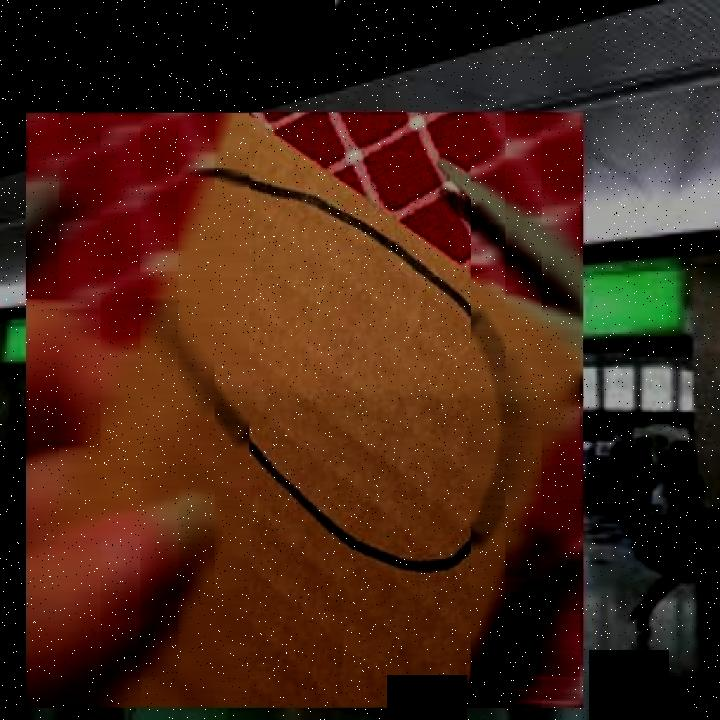box: (18, 104, 593, 718)
